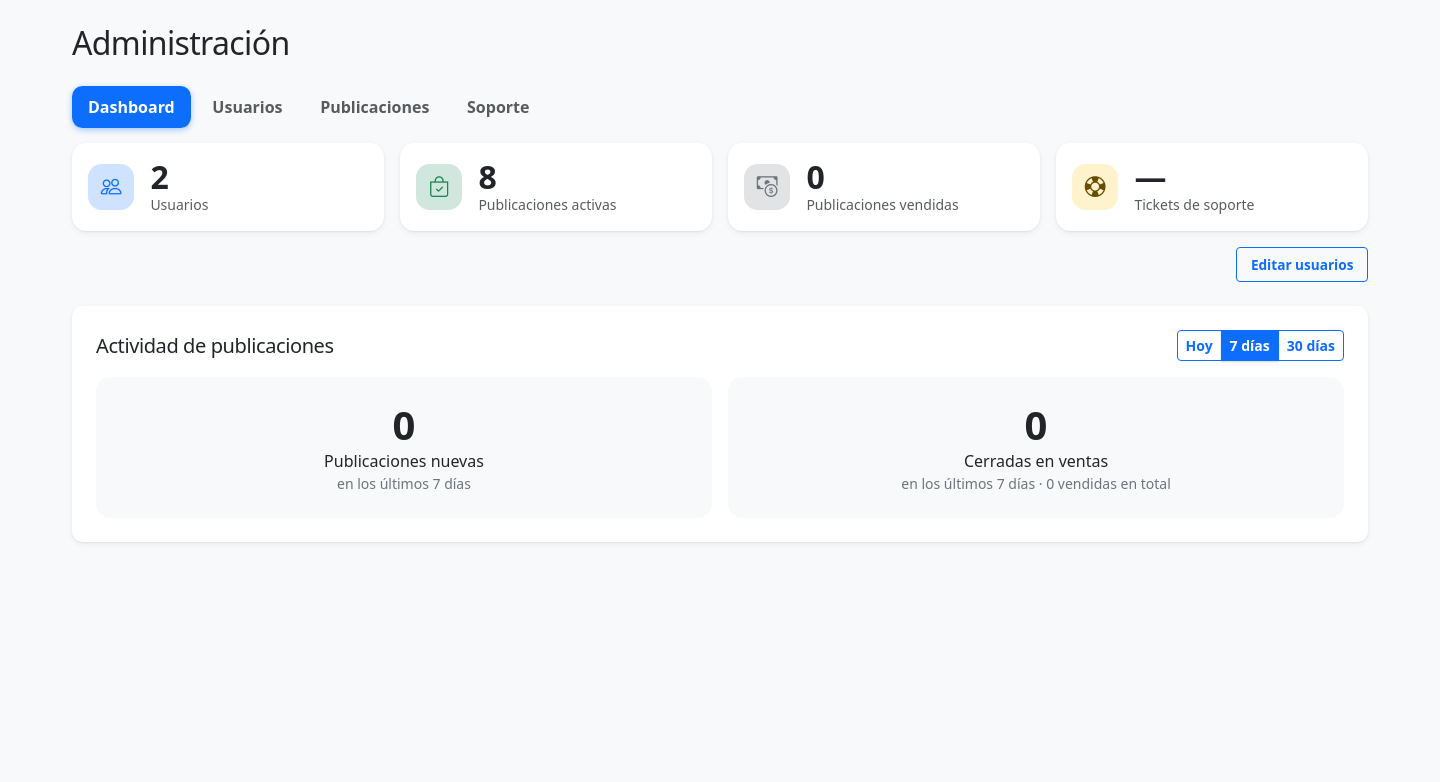
Scenario: AdminPage (modo simulado) › el superusuario deshabilita y vuelve a habilitar una publicación desde la pestaña Publicaciones
Click the tab "Publicaciones".
click(375, 107)  # box [304,86,446,128]
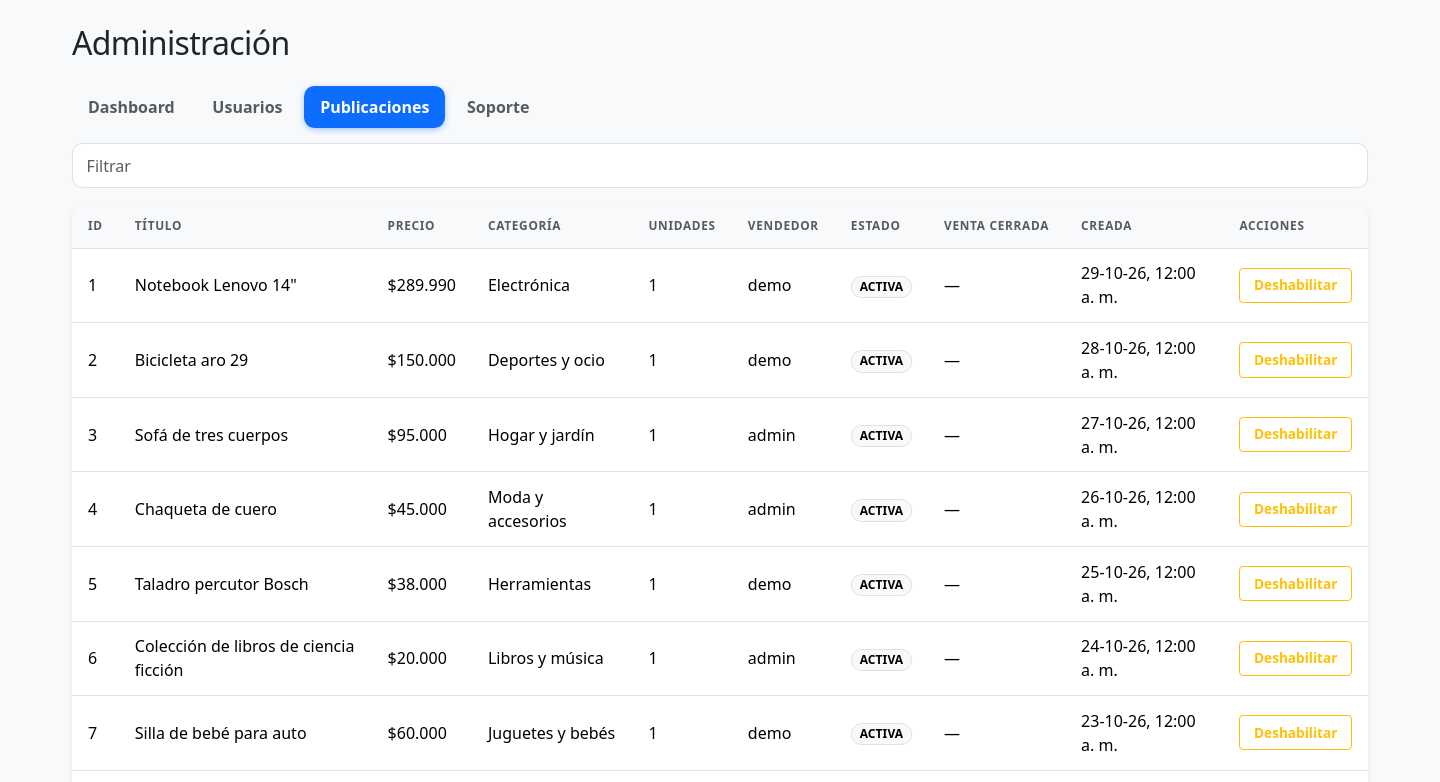
Click the button "Deshabilitar" in the row of "Notebook Lenovo 14\"".
click(1296, 285)  # box [1240,268,1352,303]
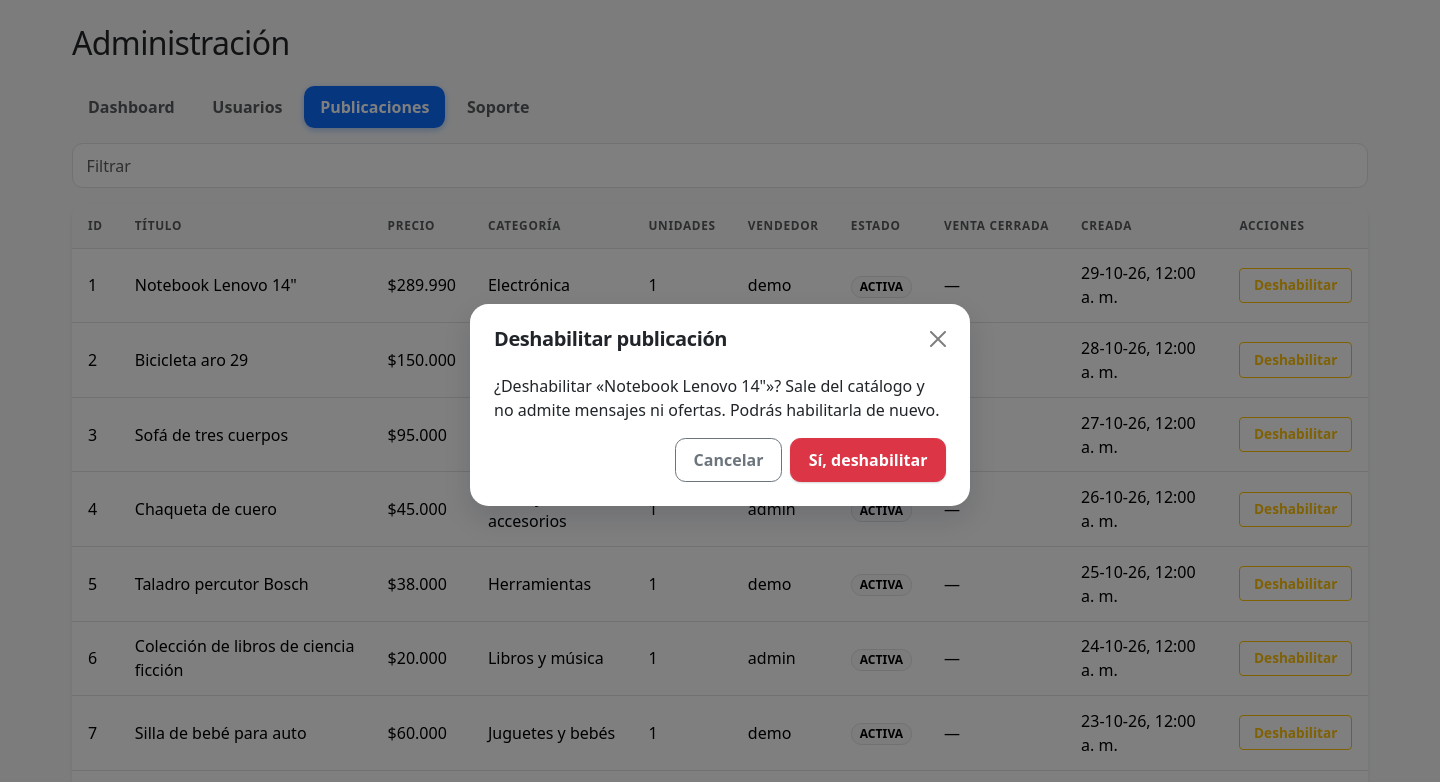
Click the button "Sí, deshabilitar".
click(868, 460)  # box [790,438,946,482]
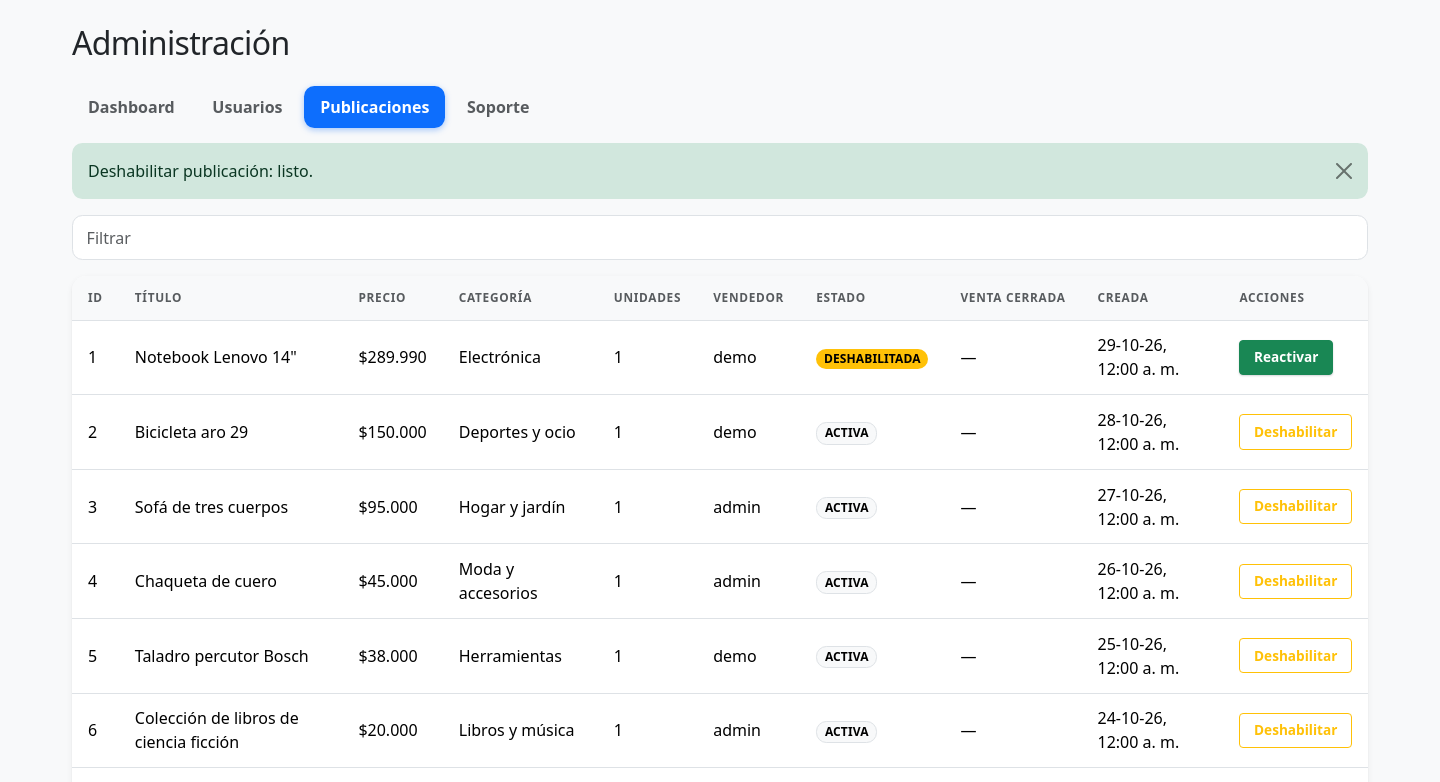
Expected: the text "DESHABILITADA" is shown, [816,349,928,369]
Click the button "Reactivar".
click(1286, 357)  # box [1240,340,1333,375]
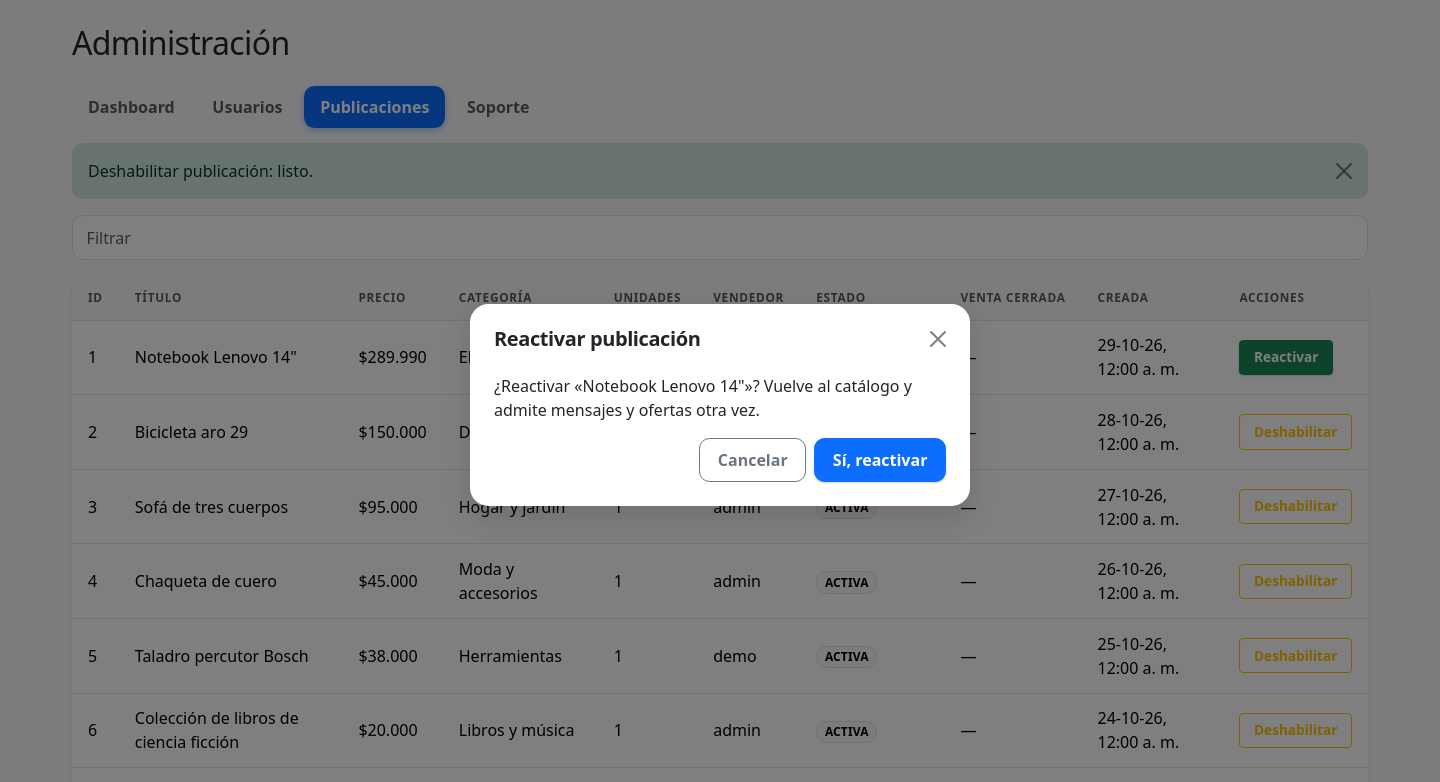
Click the button "Sí, reactivar".
click(880, 460)  # box [814,438,946,482]
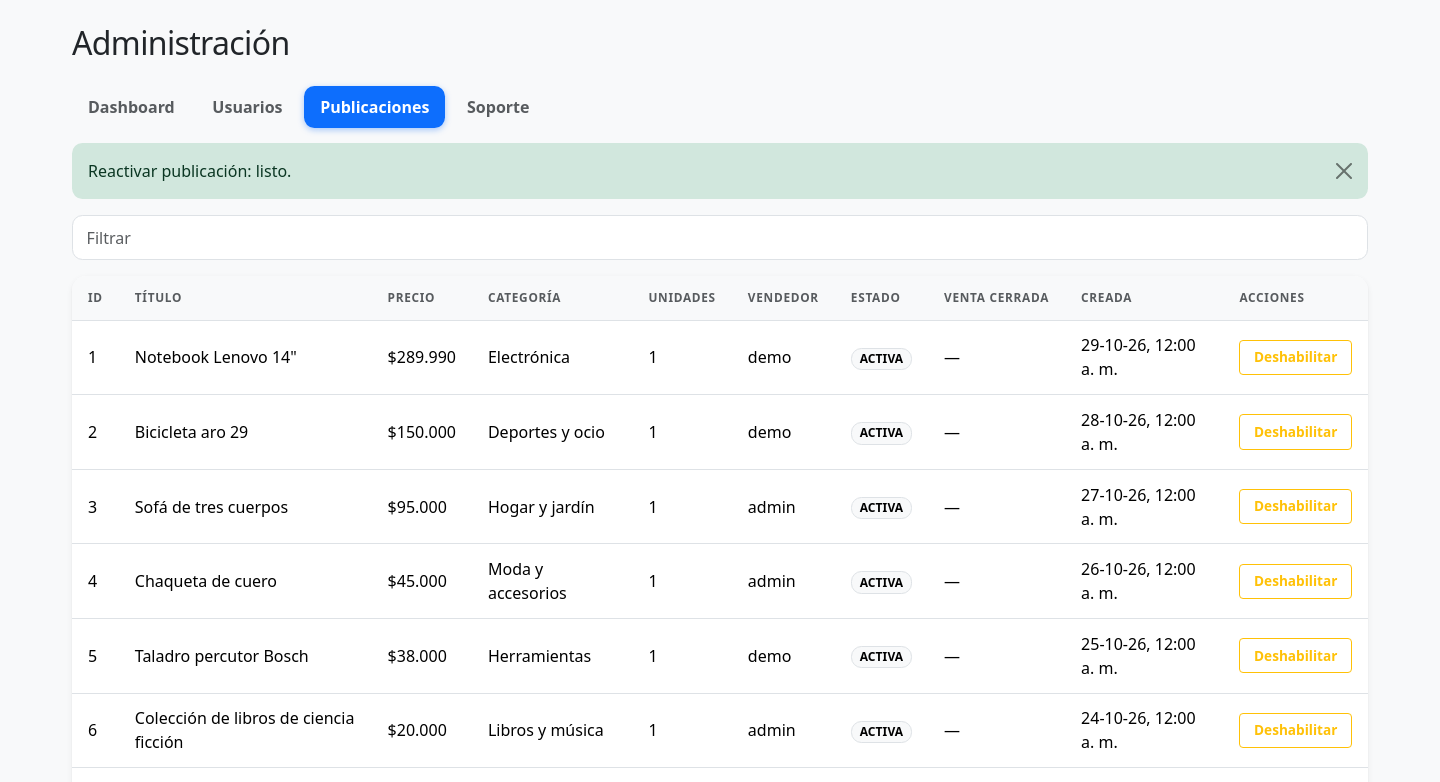
Expected: the text "ACTIVA" in the row of "Notebook Lenovo 14\"" is shown, [860,350,903,367]
